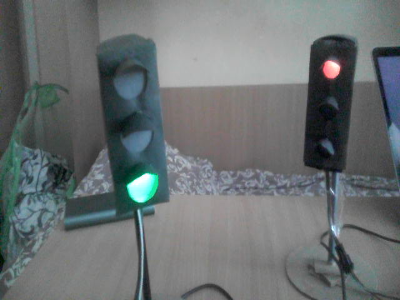trafficlight_green: (102, 45, 165, 205)
trafficlight_red: (310, 44, 352, 170)
